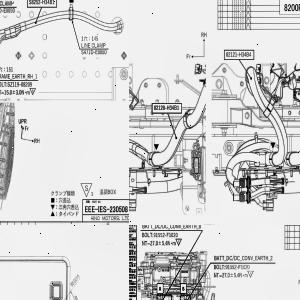PartNumber: (81, 49, 108, 56), (226, 51, 252, 58), (8, 81, 32, 88), (153, 105, 179, 111), (153, 232, 178, 238), (226, 264, 250, 270), (28, 0, 54, 5), (0, 7, 15, 14)
